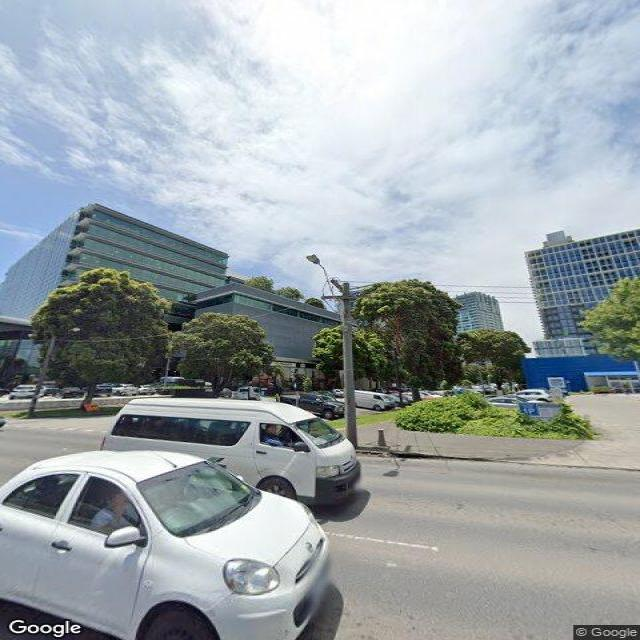concrete-pole: (339, 282, 358, 447)
crossarm: (321, 294, 371, 302), (330, 278, 344, 294)
streetlight: (307, 254, 343, 317)
